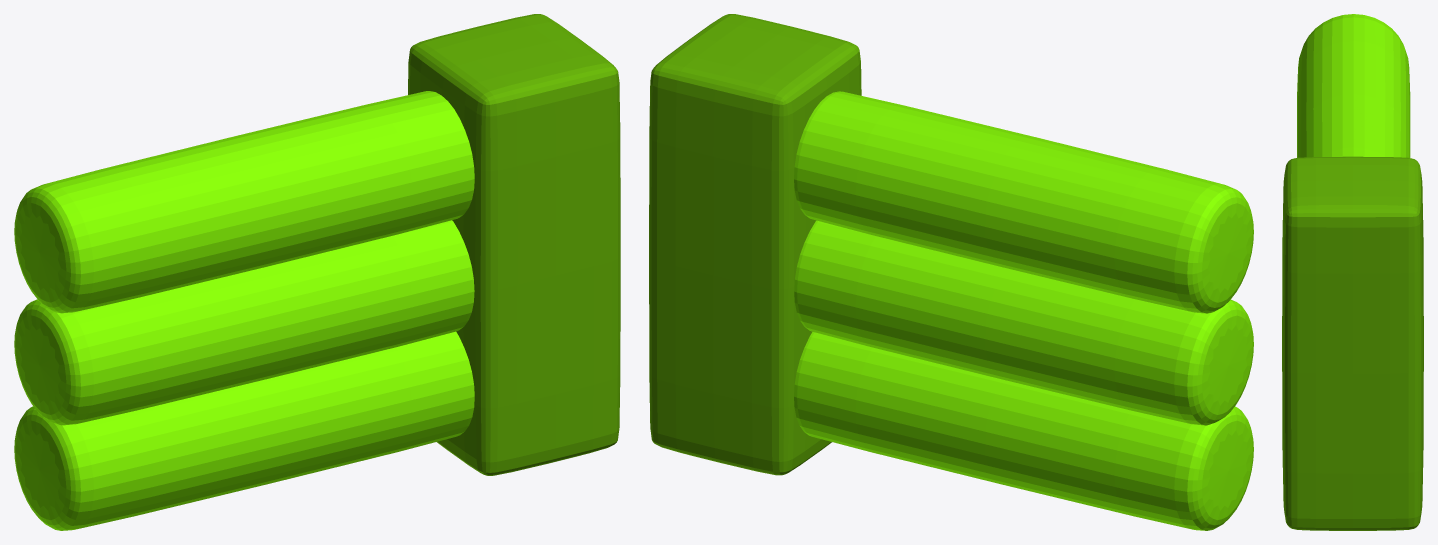
Rendered from Pembatas Jalan datar.fbx.
The picture shows the model from 3 angles, left to right: view 1: azimuth 30°, elevation 25°; view 2: azimuth 150°, elevation 25°; view 3: azimuth 270°, elevation 25°; orthographic projection. The views are drawn at different scales.
Visible parts, largest first — view 1: pembatas datar; view 2: pembatas datar; view 3: pembatas datar.
Boxes of the visible parts, x1,y1,x2,y2 form: pembatas datar: (14,14,620,530); pembatas datar: (649,14,1253,530); pembatas datar: (1282,14,1423,530).
Size of the model in its own units: 427 by 290 by 114.
